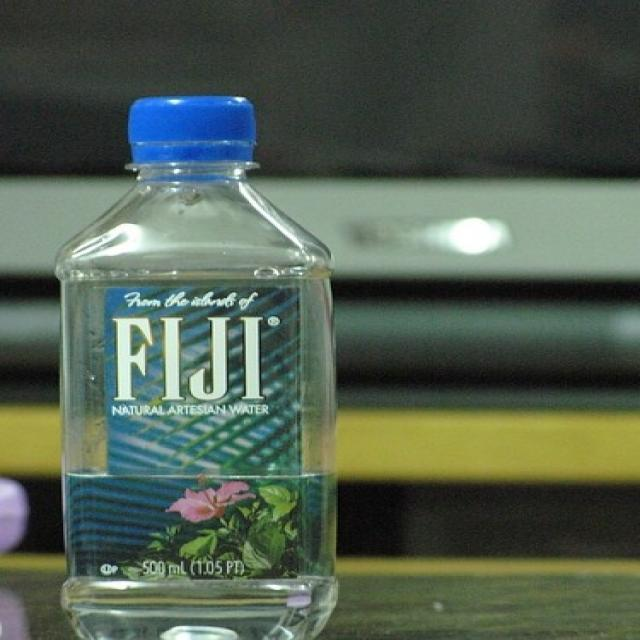plastic_bottle: (54, 95, 339, 640)
